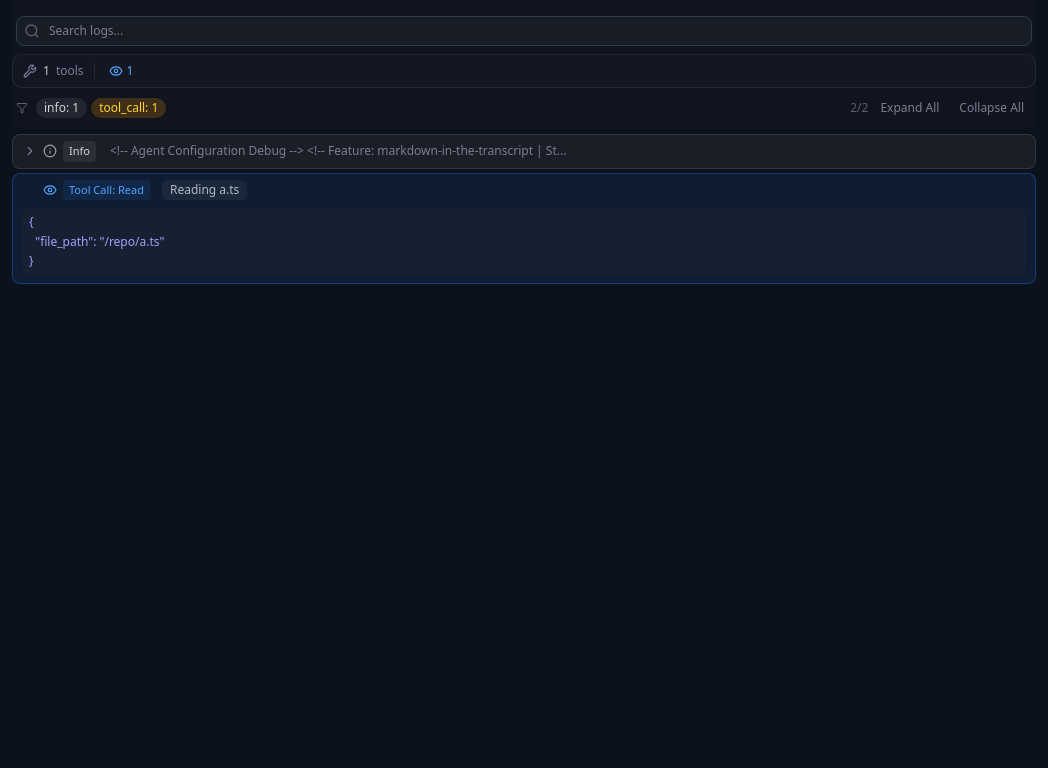
it: LogViewer header, filters and search › still searches raw entry content, not rendered output
Click the button with test id "log-expand-all": (910, 108) x1=872 y1=96 x2=947 y2=120
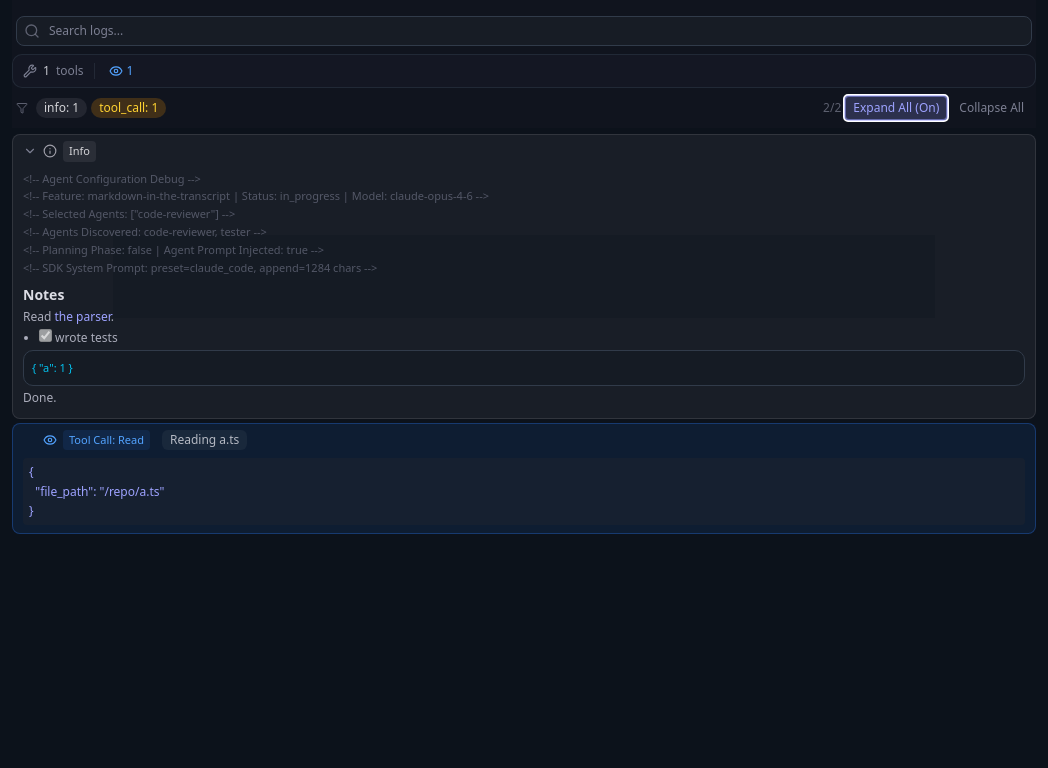
In the field with test id "log-search-input": (524, 31) x1=16 y1=16 x2=1032 y2=46, type "file_path"
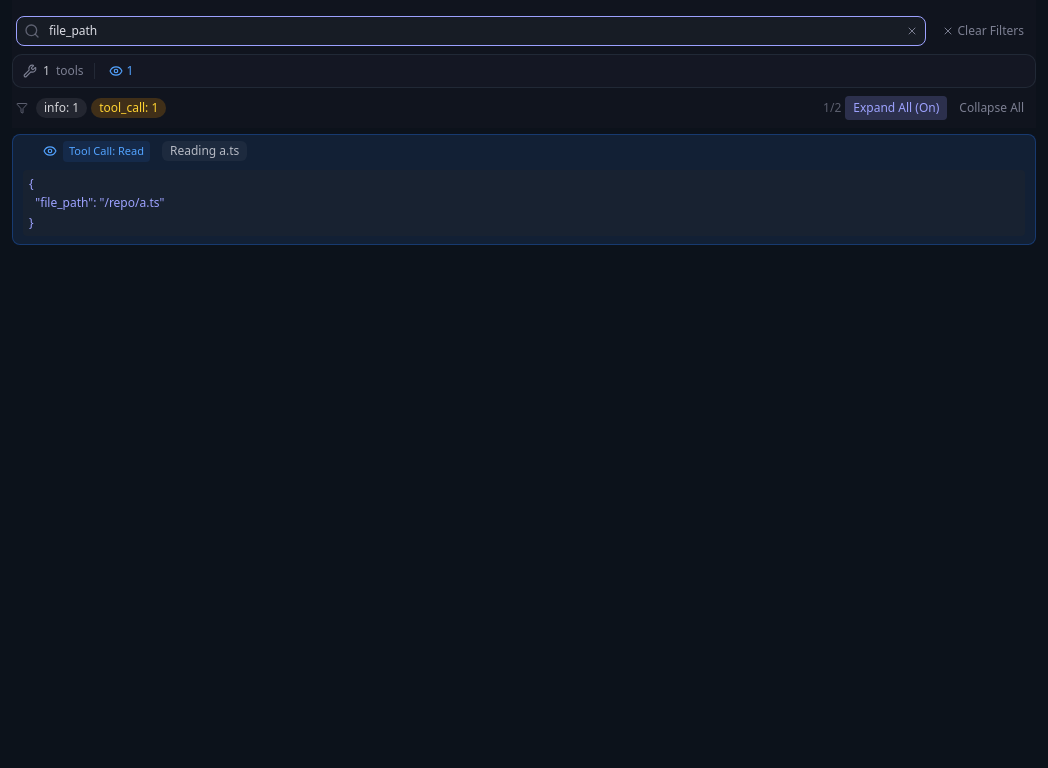
Expected: the element with test id "log-entry-tool_call" is shown, x1=12 y1=134 x2=1036 y2=245
Now the element with test id "log-entry-info" is gone
Clear the field with test id "log-search-input": (471, 31) x1=16 y1=16 x2=926 y2=46
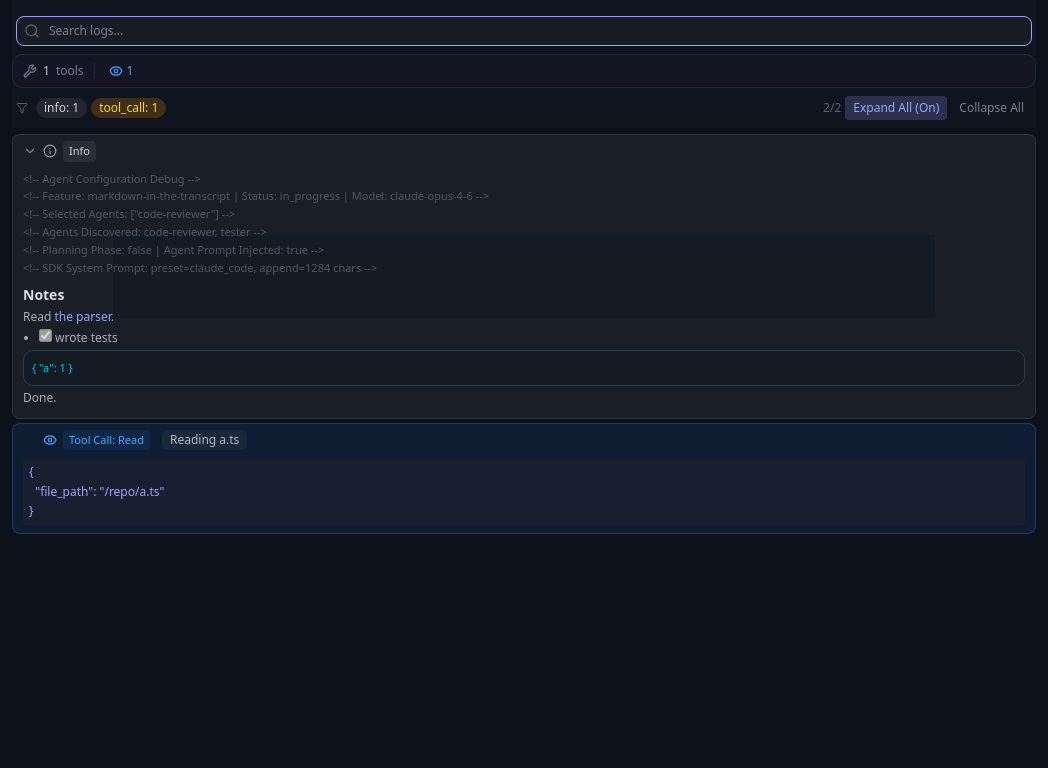
In the field with test id "log-search-input": (524, 31) x1=16 y1=16 x2=1032 y2=46, type "Agents Discovered"
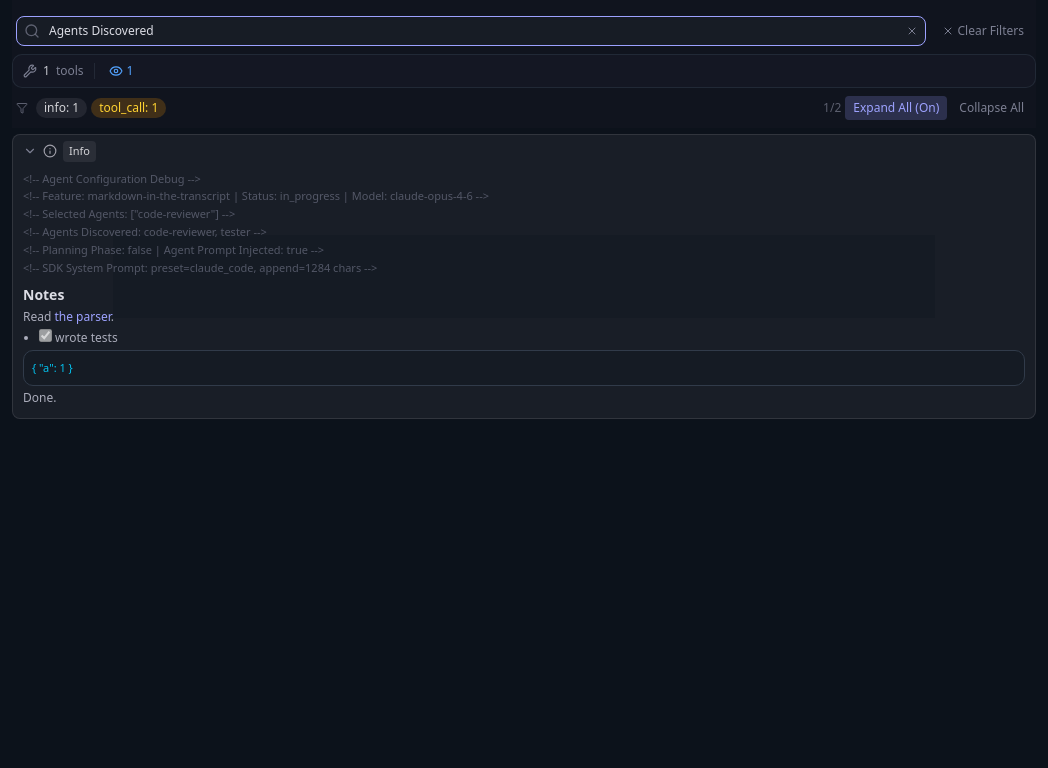
Now the element with test id "log-entry-info" is shown, box x1=12 y1=134 x2=1036 y2=419
Now the element with test id "log-entry-tool_call" is gone
